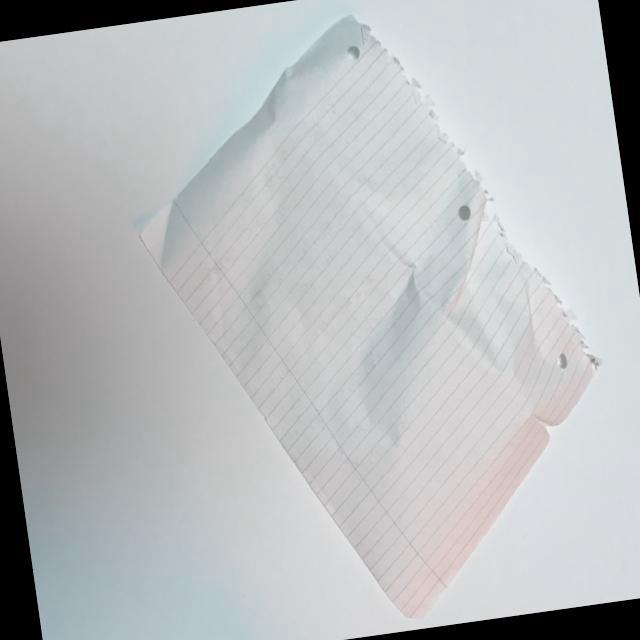paper: (118, 0, 636, 640)
